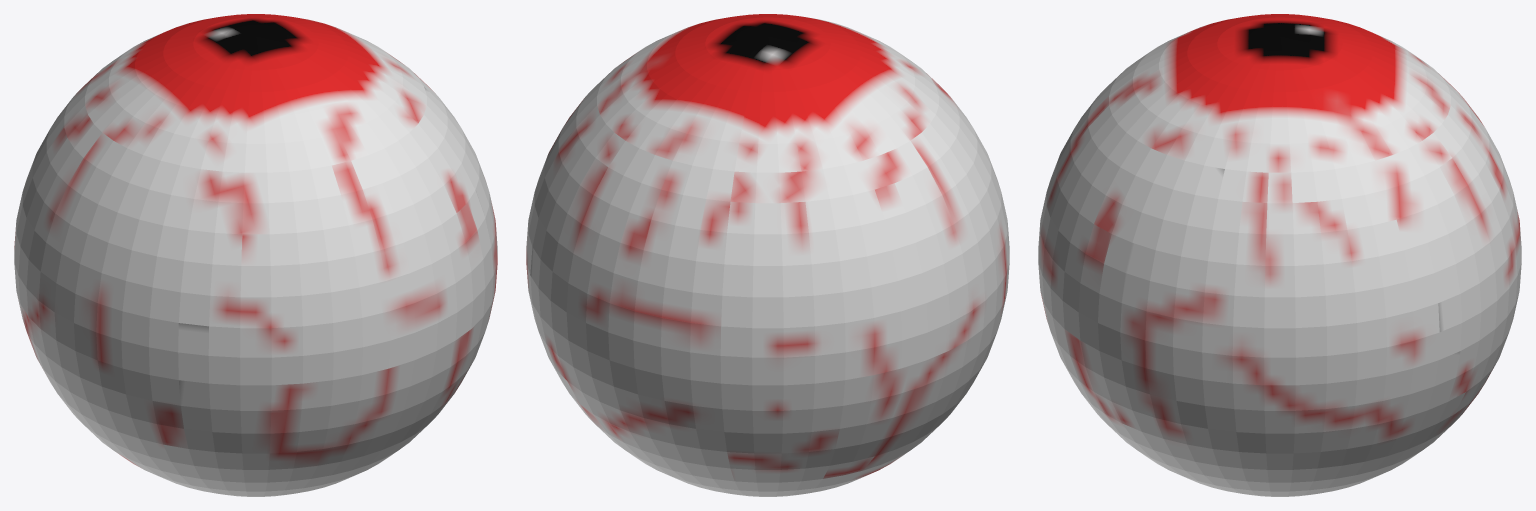
Rendered from Eyeball.fbx.
The picture shows the model from 3 angles, left to right: view 1: azimuth 30°, elevation 25°; view 2: azimuth 150°, elevation 25°; view 3: azimuth 270°, elevation 25°; orthographic projection.
Visible parts, largest first — view 1: sphere; view 2: sphere; view 3: sphere.
Boxes of the visible parts, x1,y1,x2,y2 form: sphere: [14, 14, 497, 496]; sphere: [526, 14, 1009, 496]; sphere: [1038, 14, 1521, 496].
Size of the model in its own units: 100 by 100 by 100.
1 material, 1 textured.
